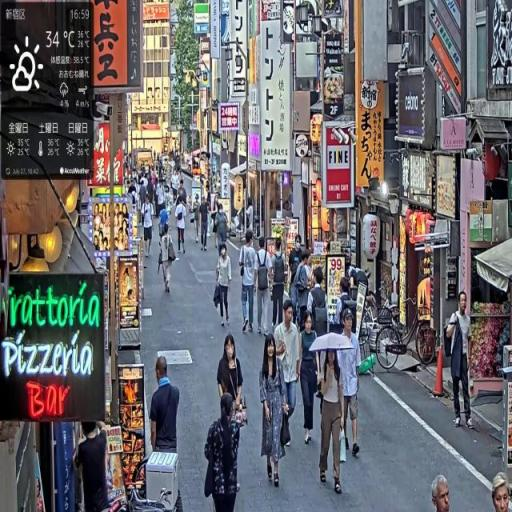person: (203, 390, 246, 512), (316, 346, 348, 498), (259, 333, 290, 488), (218, 335, 247, 494), (447, 291, 476, 432), (275, 300, 302, 451), (337, 307, 363, 462), (298, 312, 322, 449), (149, 355, 181, 454), (75, 420, 109, 512), (240, 232, 259, 336), (256, 239, 275, 339), (213, 244, 233, 331), (272, 241, 289, 332), (159, 220, 177, 296), (214, 203, 231, 260), (141, 195, 155, 260), (431, 476, 454, 512), (492, 474, 512, 512), (177, 195, 188, 253)
